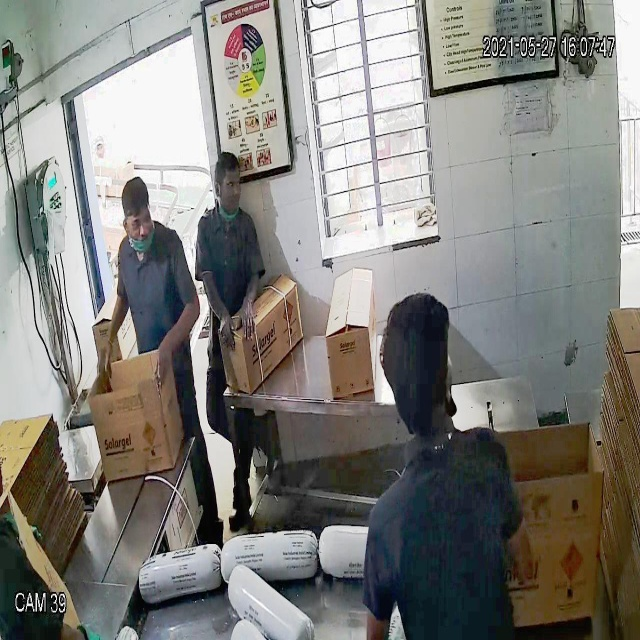Sin_gafas: (119, 202, 159, 239)
